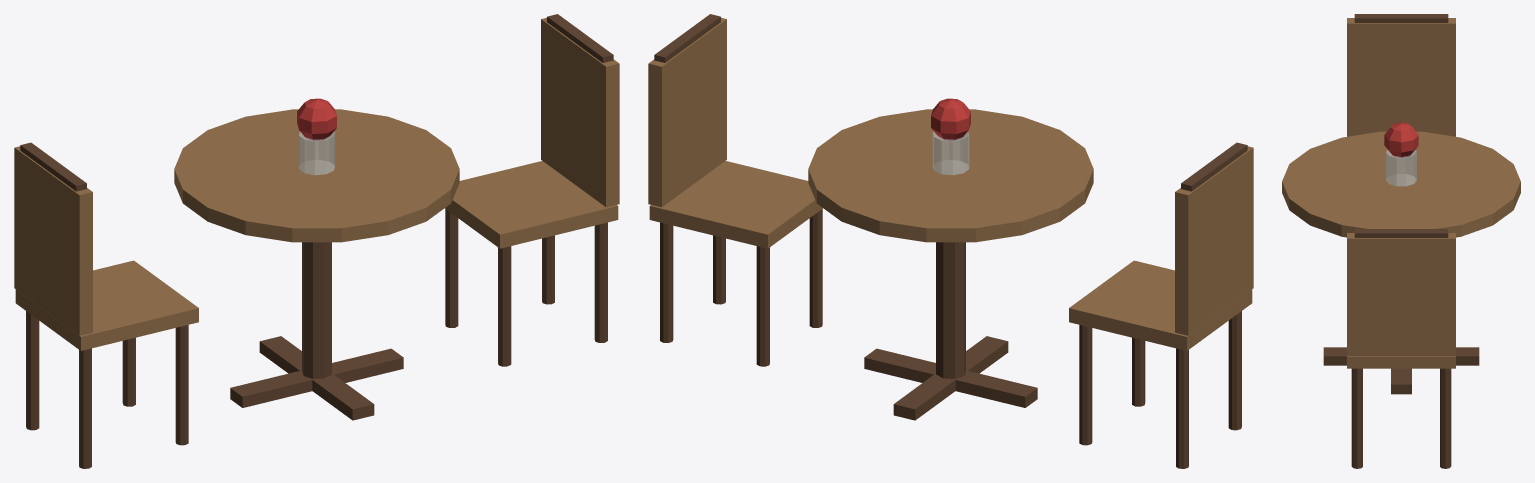
Rendered from round_table.glb.
The picture shows the model from 3 angles, left to right: view 1: azimuth 30°, elevation 25°; view 2: azimuth 150°, elevation 25°; view 3: azimuth 270°, elevation 25°; orthographic projection. The views are drawn at different scales.
Visible parts, largest first — view 1: round_table; view 2: round_table; view 3: round_table.
Boxes of the visible parts, x1,y1,x2,y2 form: round_table: (14, 14, 619, 468); round_table: (648, 14, 1253, 468); round_table: (1282, 14, 1520, 468).
Size of the model in its own units: 2.01 by 1.01 by 0.92.
